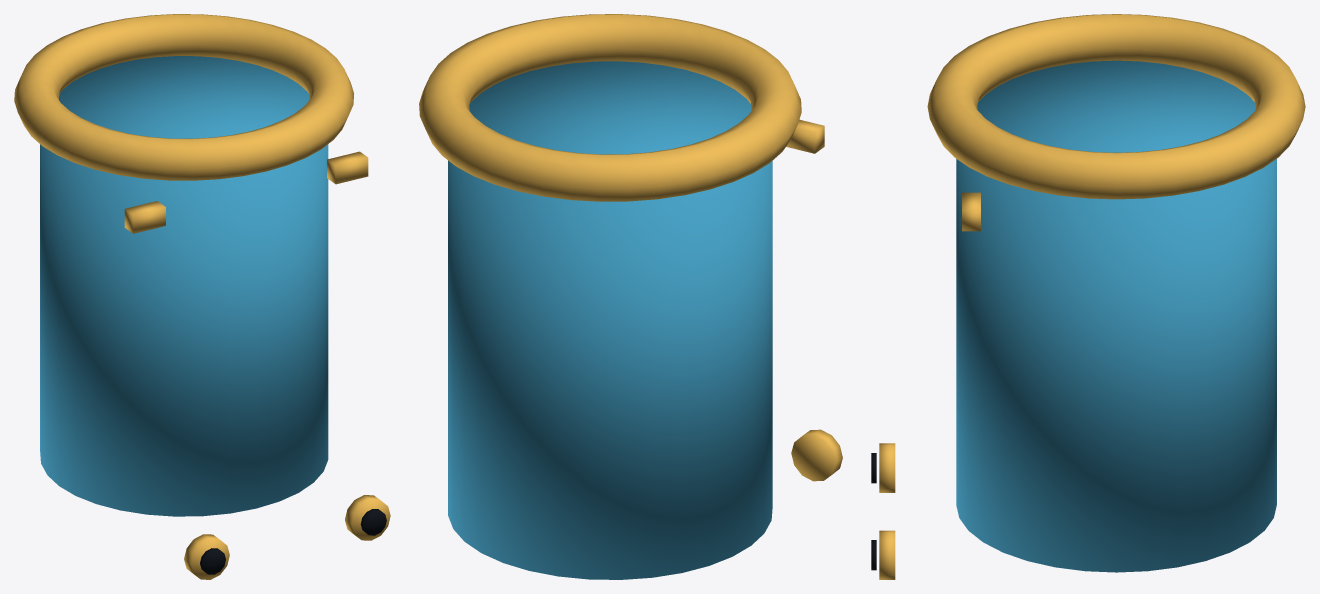
The model's file is 75_L93_CoreCartridgeB.fbx.
3 views of the same model, side by side, from view 1: azimuth 30°, elevation 25°; view 2: azimuth 150°, elevation 25°; view 3: azimuth 270°, elevation 25° (orthographic). The views are drawn at different scales.
Visible parts, largest first — view 1: L92_CoreCartridgeB_Part_0000, L92_CoreCartridgeB_Part_0001, L92_CoreCartridgeB_Part_0010, L92_CoreCartridgeB_Part_0011, L92_CoreCartridgeB_Part_0013, L92_CoreCartridgeB_Part_0014, L92_CoreCartridgeB_Part_0012; view 2: L92_CoreCartridgeB_Part_0000, L92_CoreCartridgeB_Part_0001, L92_CoreCartridgeB_Part_0011, L92_CoreCartridgeB_Part_0010; view 3: L92_CoreCartridgeB_Part_0000, L92_CoreCartridgeB_Part_0001, L92_CoreCartridgeB_Part_0011, L92_CoreCartridgeB_Part_0013, L92_CoreCartridgeB_Part_0010.
Boxes of the visible parts, <box> form: L92_CoreCartridgeB_Part_0000: <box>40,56,328,516</box>; L92_CoreCartridgeB_Part_0001: <box>14,14,353,180</box>; L92_CoreCartridgeB_Part_0010: <box>124,151,368,233</box>; L92_CoreCartridgeB_Part_0011: <box>184,534,229,579</box>; L92_CoreCartridgeB_Part_0013: <box>345,495,390,540</box>; L92_CoreCartridgeB_Part_0014: <box>360,509,386,535</box>; L92_CoreCartridgeB_Part_0012: <box>200,548,225,574</box>; L92_CoreCartridgeB_Part_0000: <box>448,61,772,579</box>; L92_CoreCartridgeB_Part_0001: <box>419,14,801,201</box>; L92_CoreCartridgeB_Part_0011: <box>791,429,842,481</box>; L92_CoreCartridgeB_Part_0010: <box>786,119,824,153</box>; L92_CoreCartridgeB_Part_0000: <box>956,60,1276,572</box>; L92_CoreCartridgeB_Part_0001: <box>927,14,1305,199</box>; L92_CoreCartridgeB_Part_0011: <box>879,443,895,492</box>; L92_CoreCartridgeB_Part_0013: <box>879,530,895,579</box>; L92_CoreCartridgeB_Part_0010: <box>962,192,980,231</box>.
Bounding box in the file's own units: 99 × 130 × 114.
